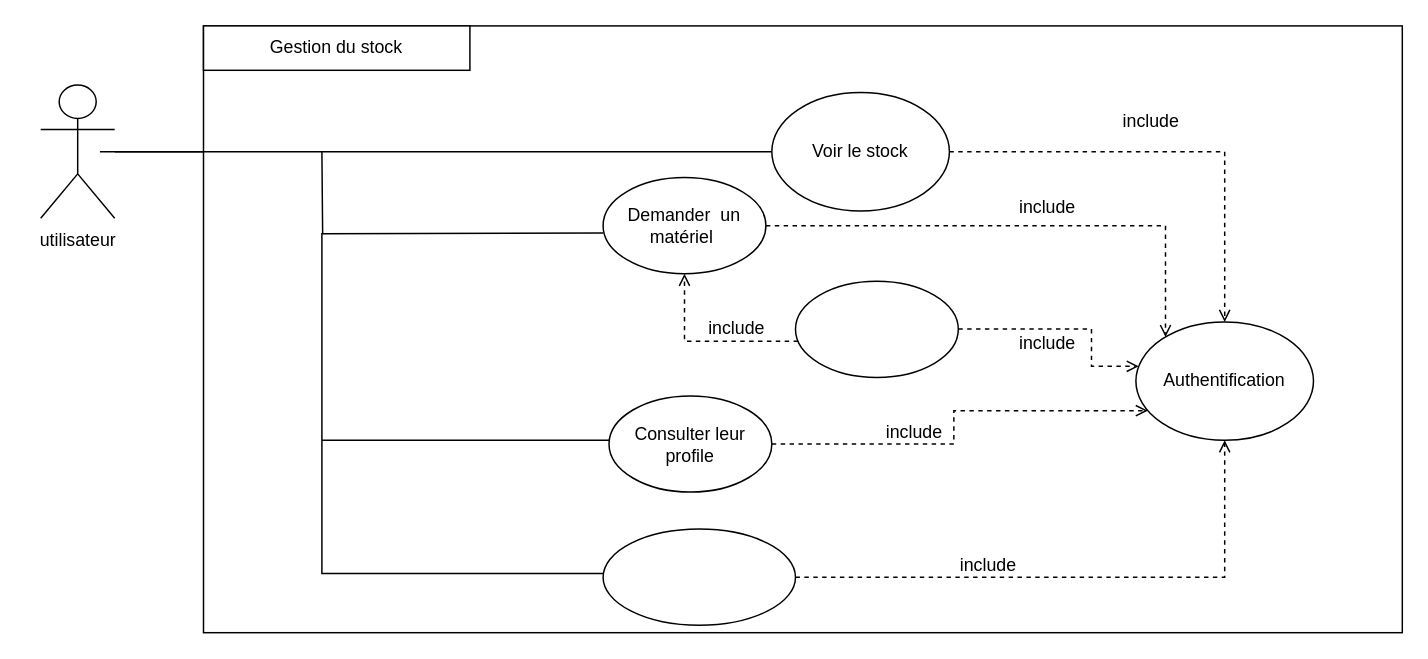
The diagram is 1428 pixels wide and 659 high, and some of its shapes have lost their labels. Here are the shapes that lost their labels. From the top down, the centre of each, then its label:
At pixel 876 328: "Demande de restitution".
At pixel 699 576: "Consulter les notifications reçues".
